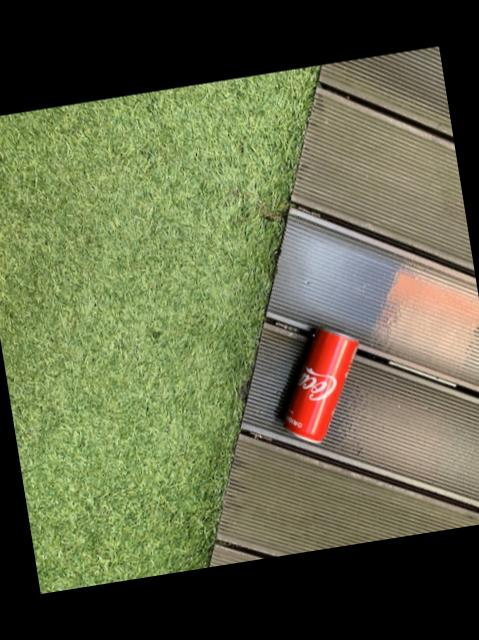metal: (282, 325, 360, 442)
